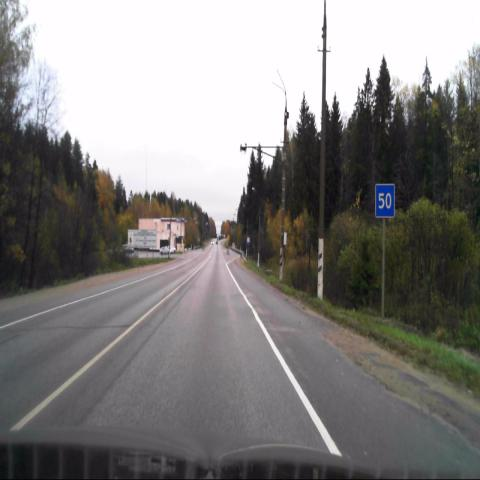6_2: (376, 185, 394, 217)
